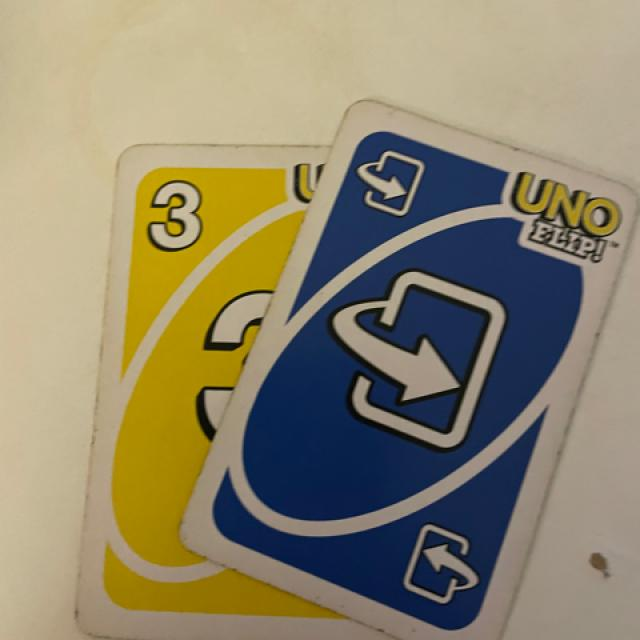lyellow-3: (132, 162, 220, 274)
